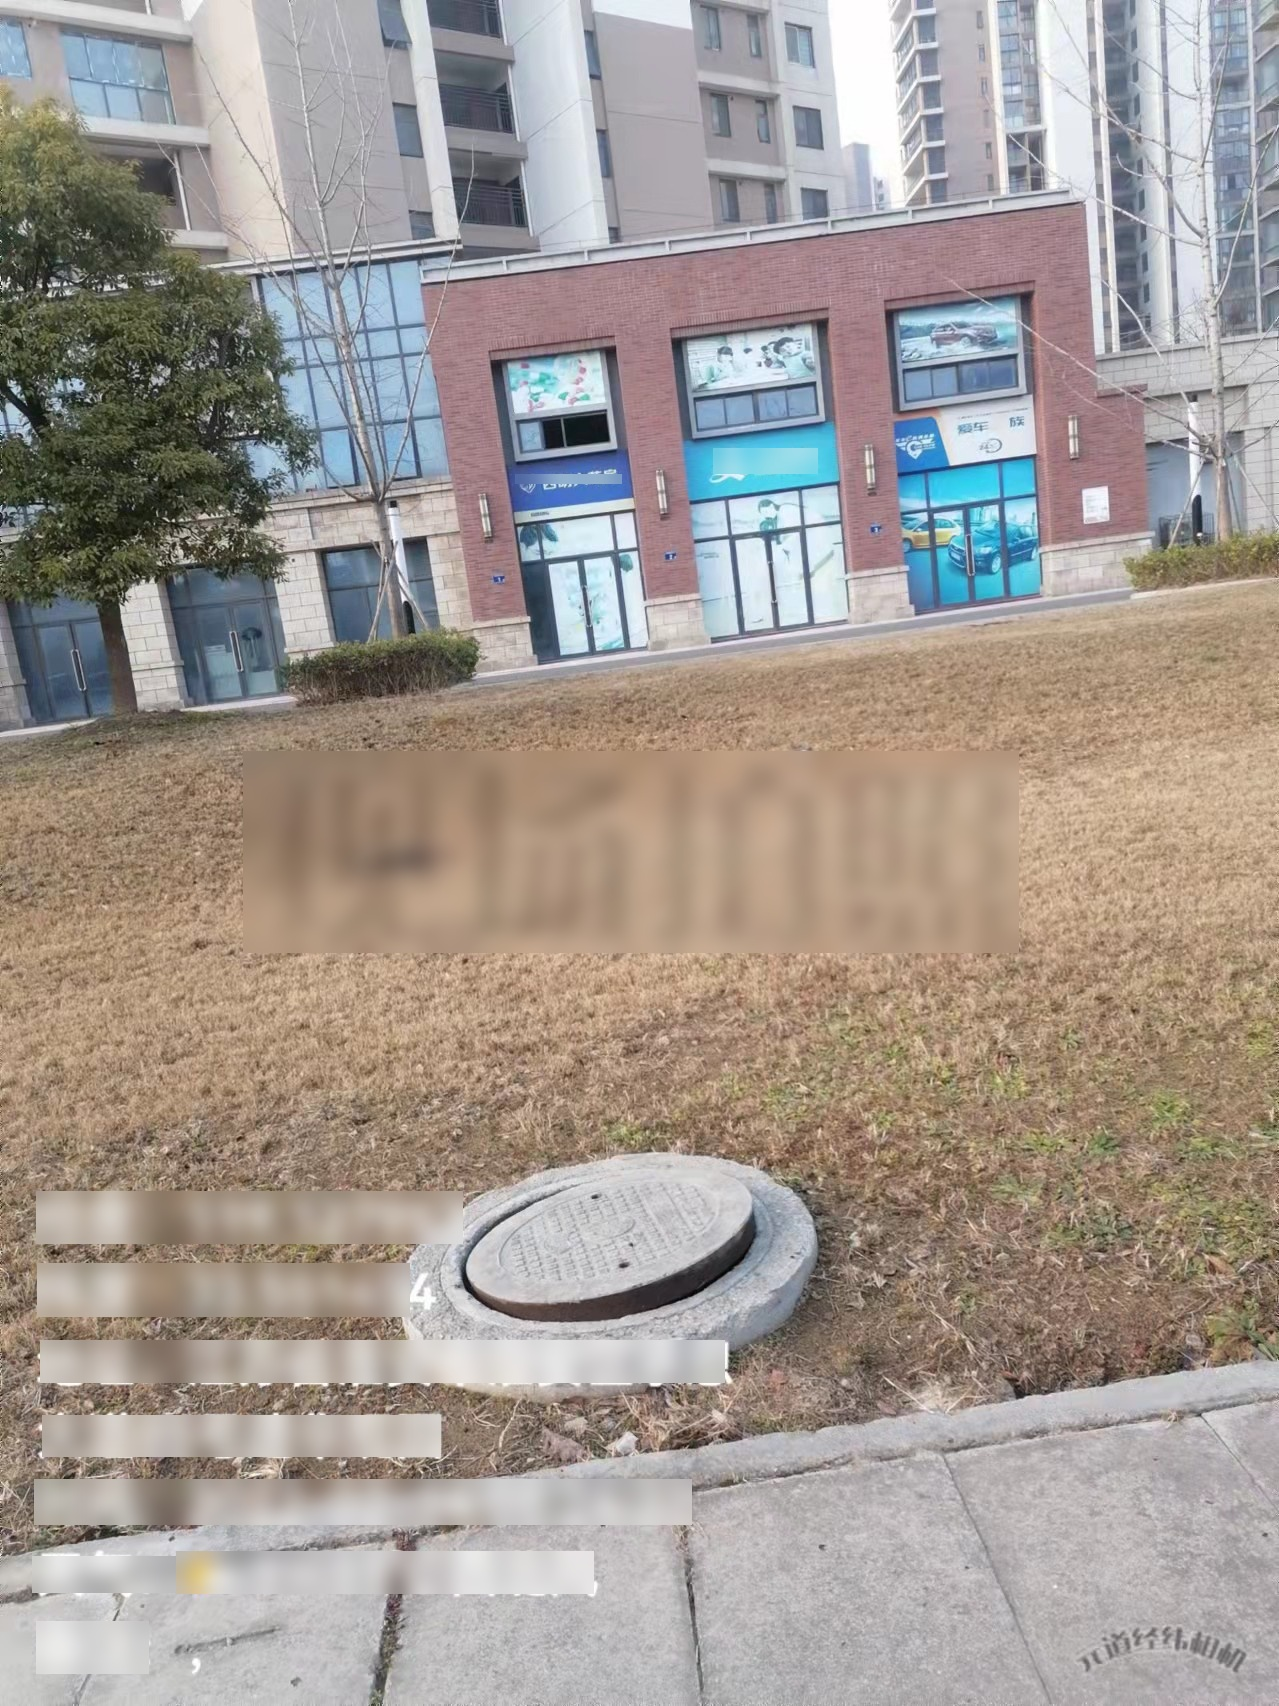uncovered: (438, 1161, 777, 1345)
